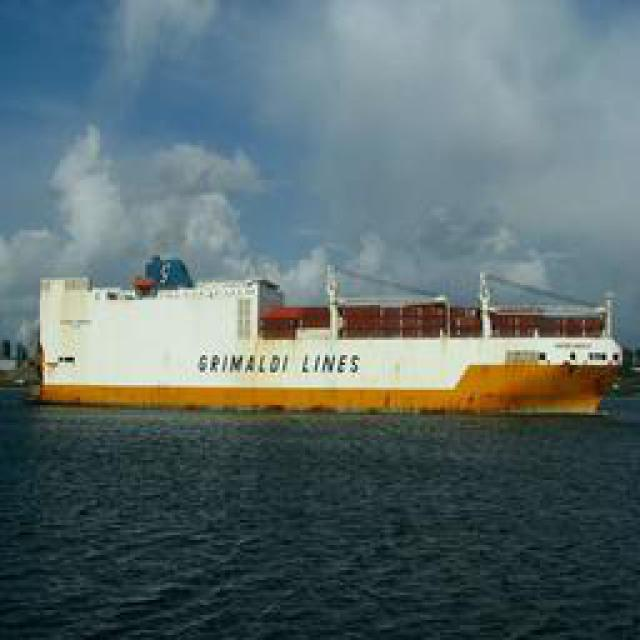Ship: (31, 257, 627, 424)
